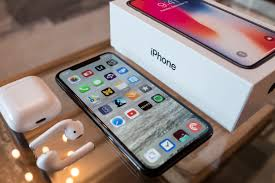Cell Phone: (53, 52, 214, 174)
